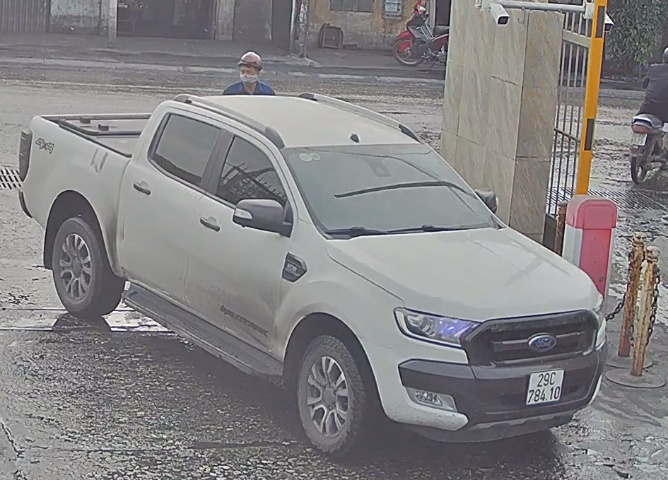vehicle plate: (524, 365, 565, 409)
